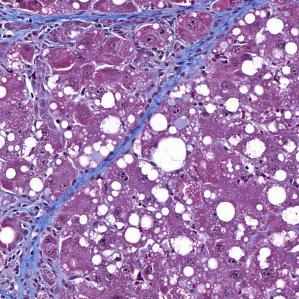fibrosis: (0, 249, 90, 299), (0, 3, 84, 50), (149, 36, 215, 87), (0, 193, 57, 239)
